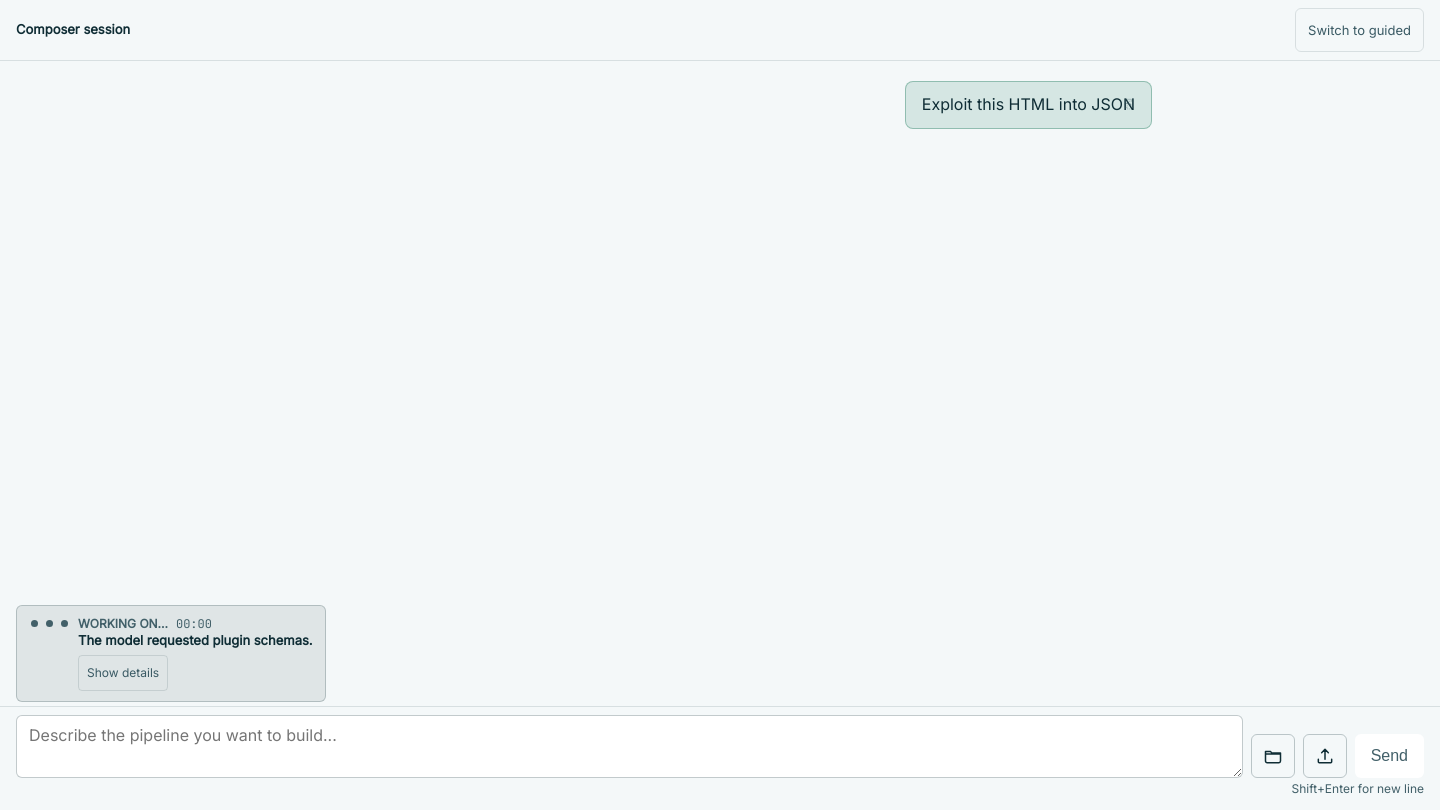
Test case: ChatPanel › passes backend composer progress to the composing indicator
The image size is (1440, 810).
Expected: the text "The model requested plugin schemas." is shown, [78,632,313,649]
Expected: the text "Checking available source, transform, and sink tools." is not shown
Click the button "Show details" at {"x": 123, "y": 673}, box [78,655,168,691]
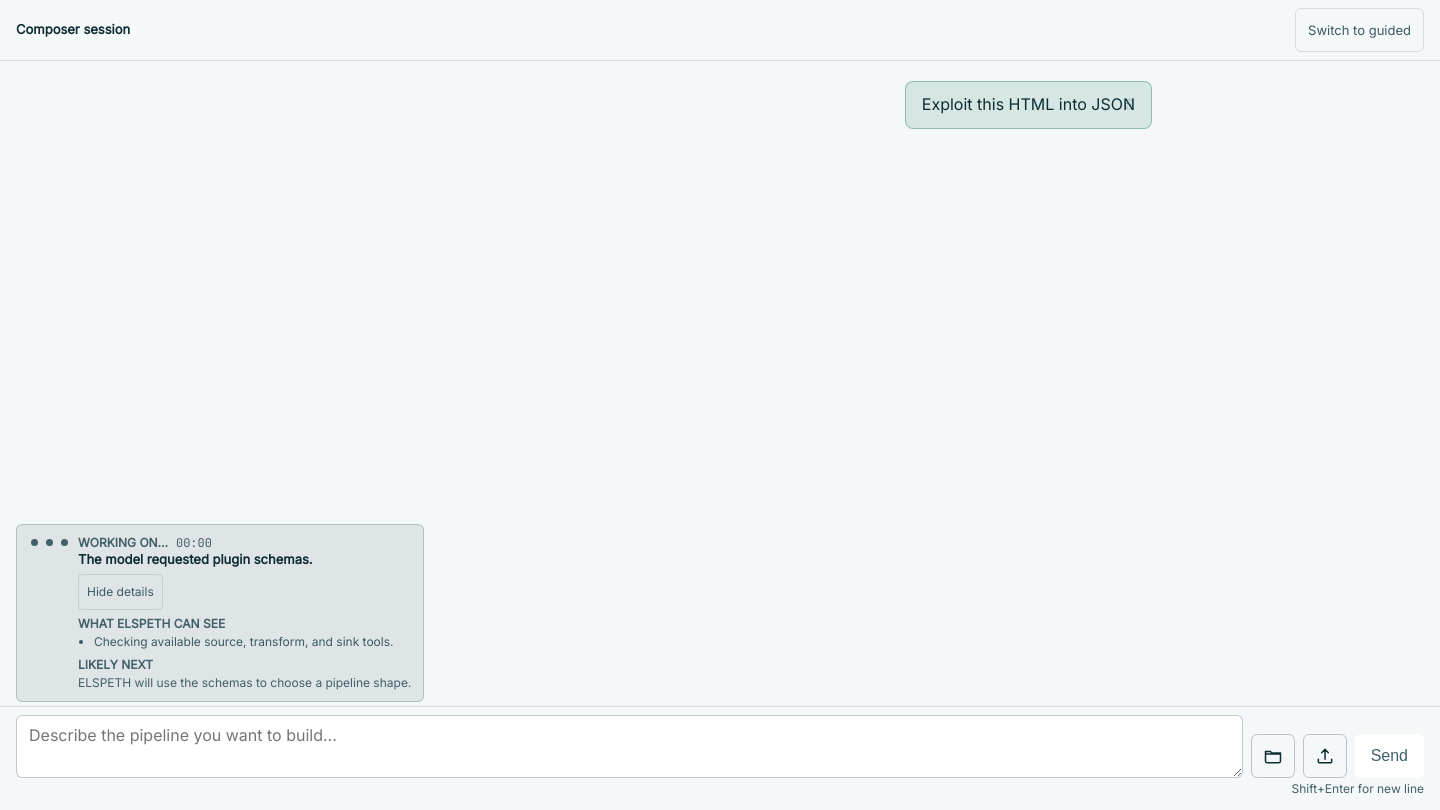
Expected: the list item "Checking available source, transform, and sink tools." is shown, [94,633,411,651]
